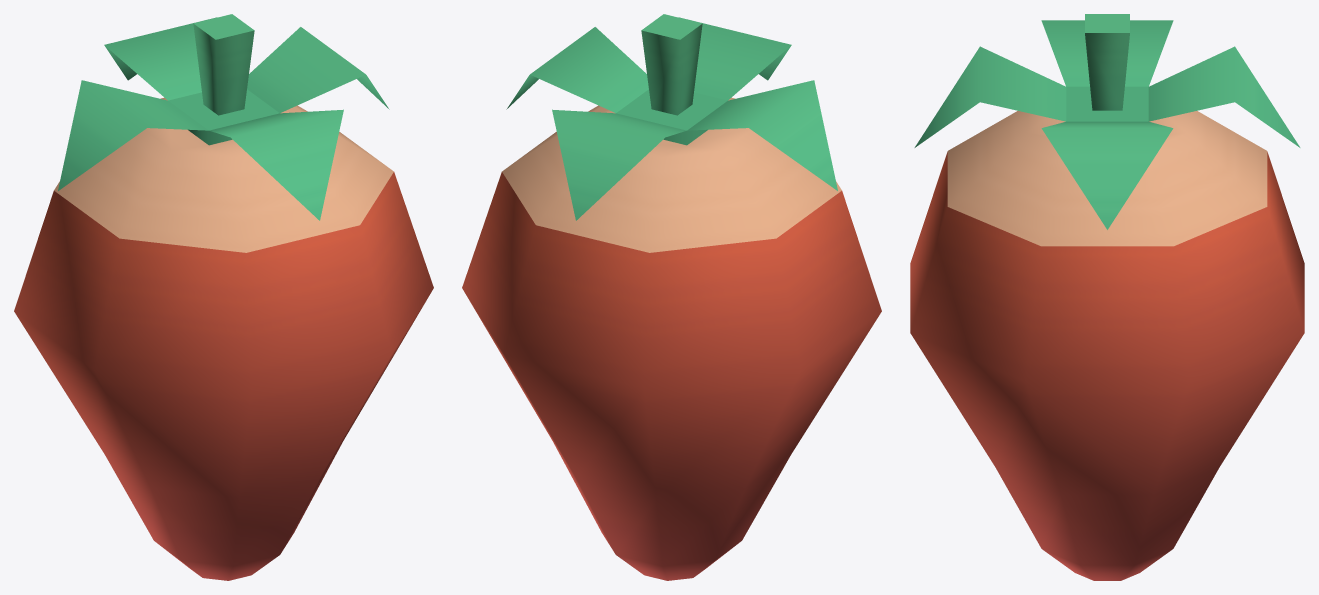
The model's file is strawberry.obj.
The picture shows the model from 3 angles, left to right: view 1: azimuth 30°, elevation 25°; view 2: azimuth 150°, elevation 25°; view 3: azimuth 270°, elevation 25°; orthographic projection.
Parts seen in each view (by area): view 1: strawberry; view 2: strawberry; view 3: strawberry.
Boxes of the visible parts, x1=… form: strawberry: x1=14, y1=14, x2=433, y2=580; strawberry: x1=462, y1=14, x2=881, y2=580; strawberry: x1=910, y1=14, x2=1304, y2=580.
Size of the model in its own units: 0.1197 by 0.182 by 0.1197.
Materials: 1 (1 with a texture image).
